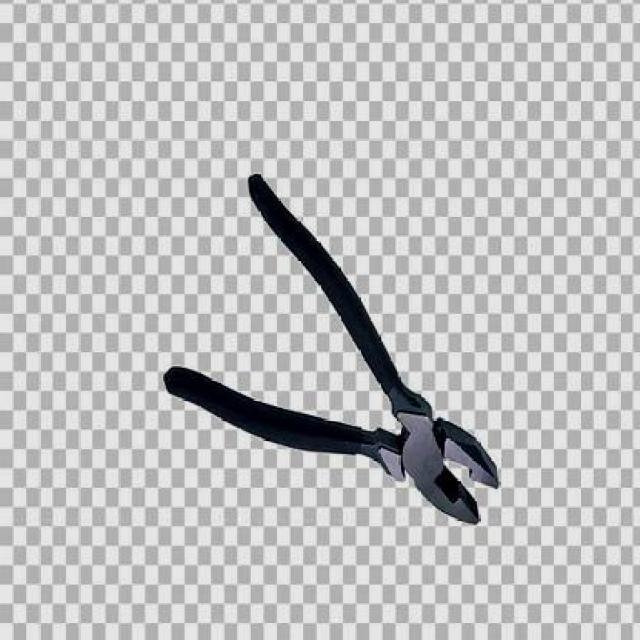pliers: (154, 170, 503, 535)
